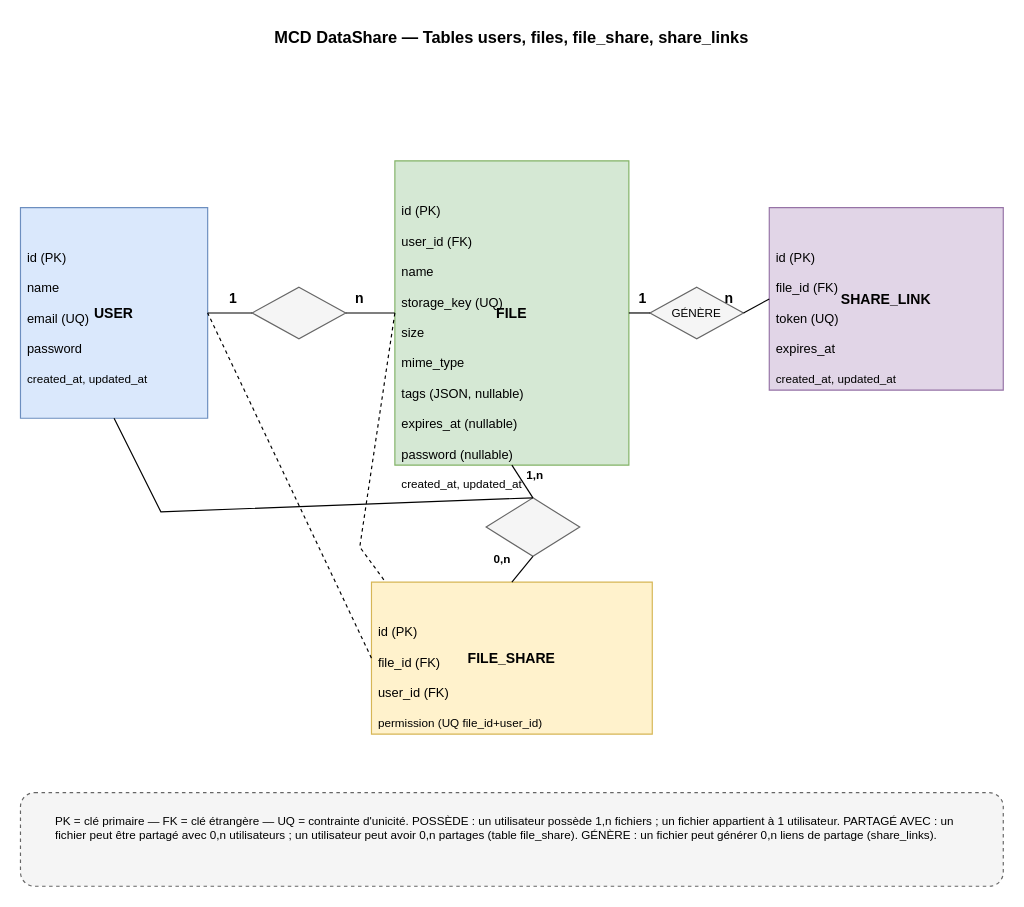
This 1024x907 diagram has some shape labels left out. Here are the shapes that lost their labels. From the top down, the centre of each, then its label:
At pixel 298 312: "POSSÈDE".
At pixel 532 526: "PARTAGÉ AVEC".
